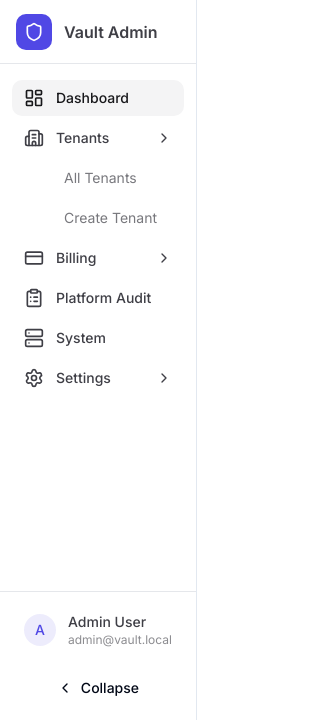
Test: Sidebar › toggles a group with children
Expected: the link "All Tenants" is shown, [64,169,137,186]
Click the button "Tenants". click: (98,138)
box: [12,120,184,156]
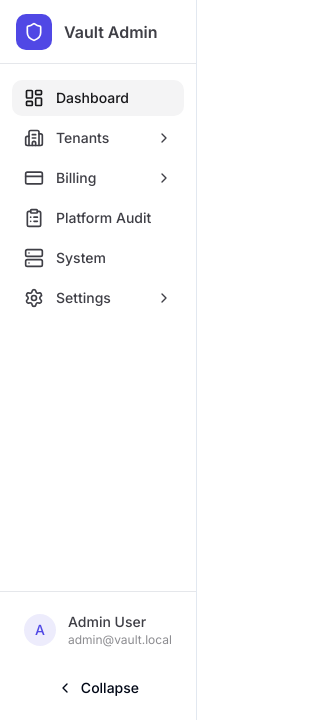
Now the link "All Tenants" is gone
